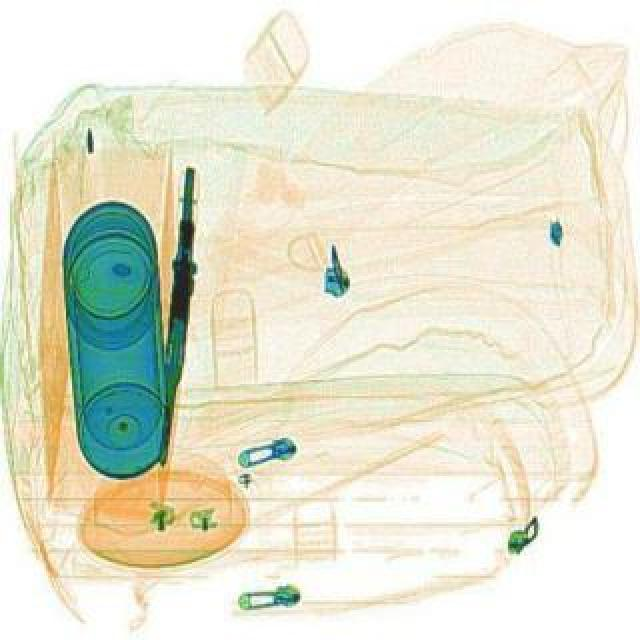gun: (148, 162, 206, 462)
